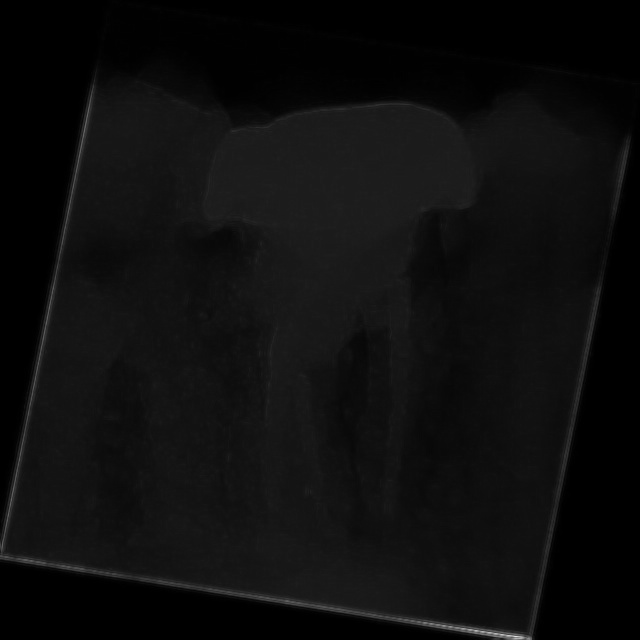Class 1- complete endodontic treatment: (111, 154, 541, 598)
